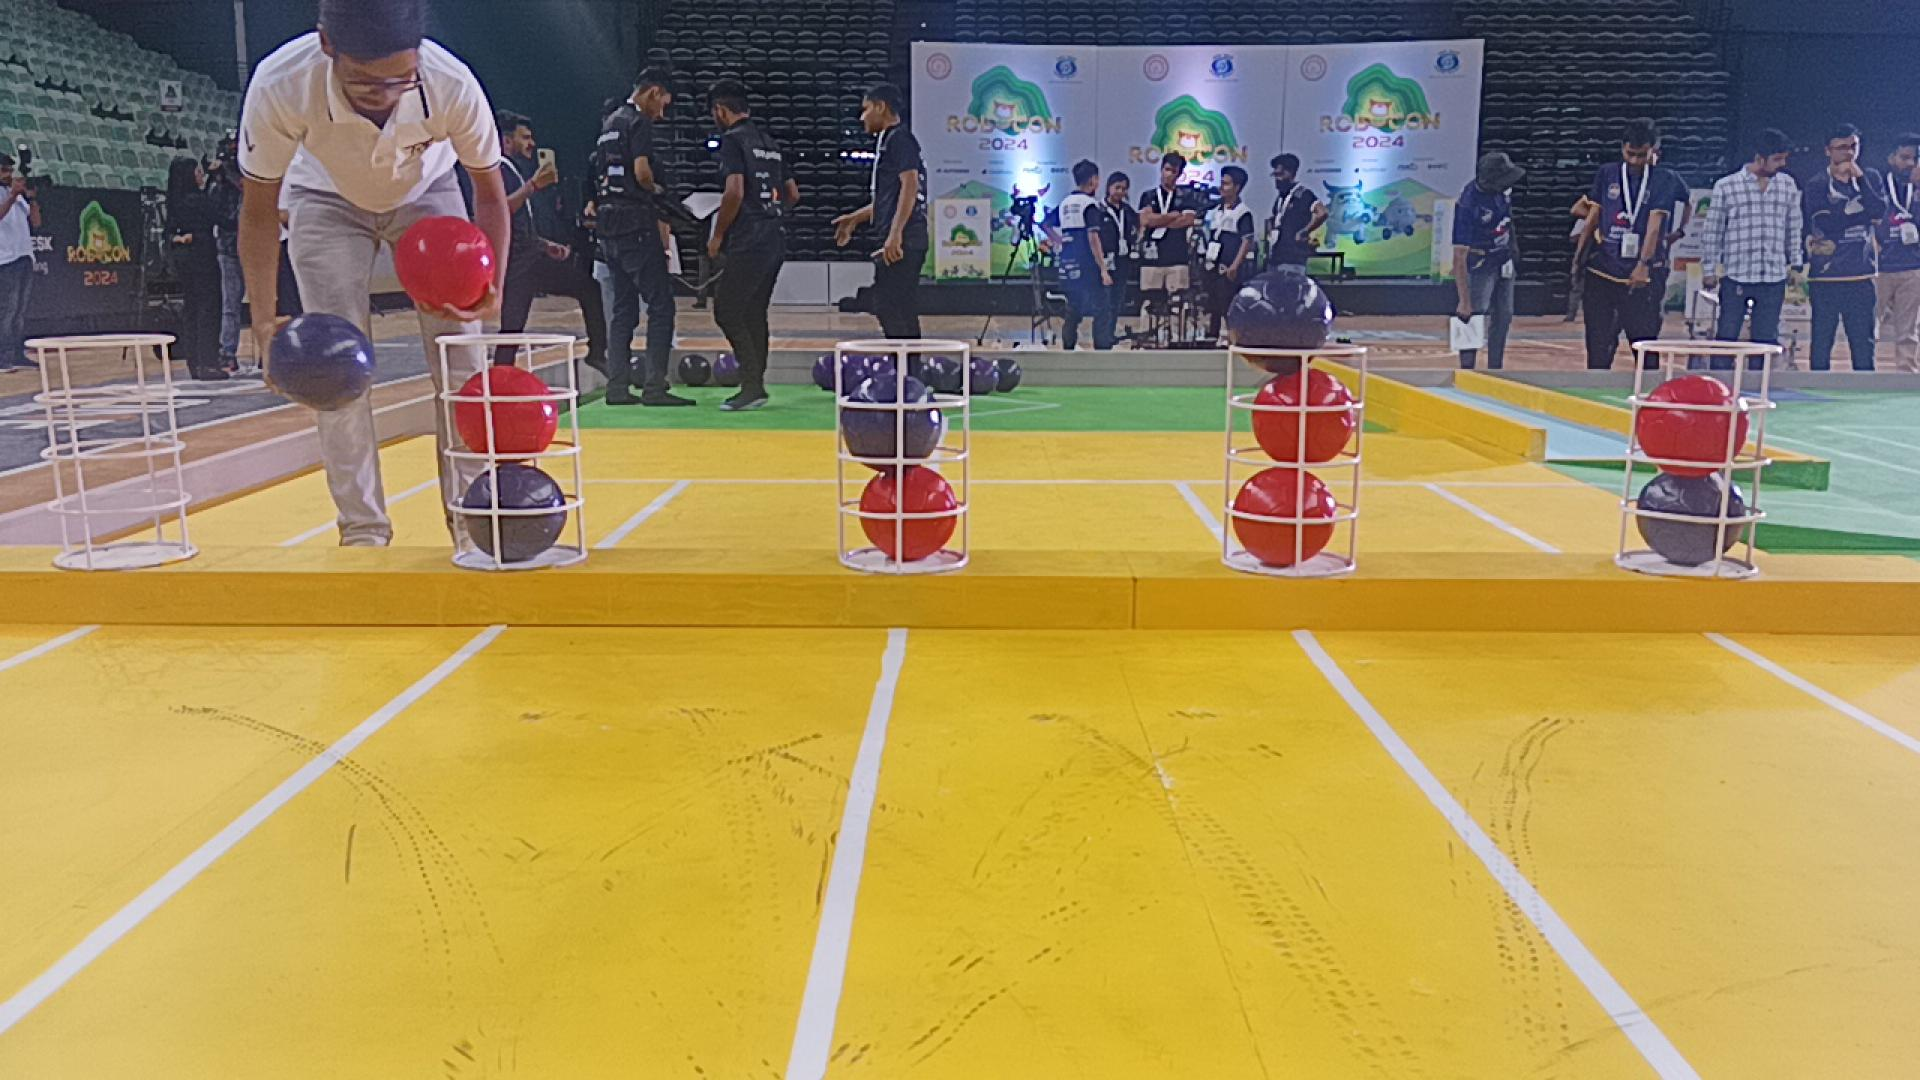dhoka: (462, 462, 566, 563), (1230, 270, 1332, 375), (840, 372, 945, 472), (1635, 472, 1747, 564)
laale: (1635, 375, 1747, 475), (1234, 468, 1335, 566), (1253, 368, 1357, 462), (454, 364, 559, 454), (862, 465, 960, 560)
